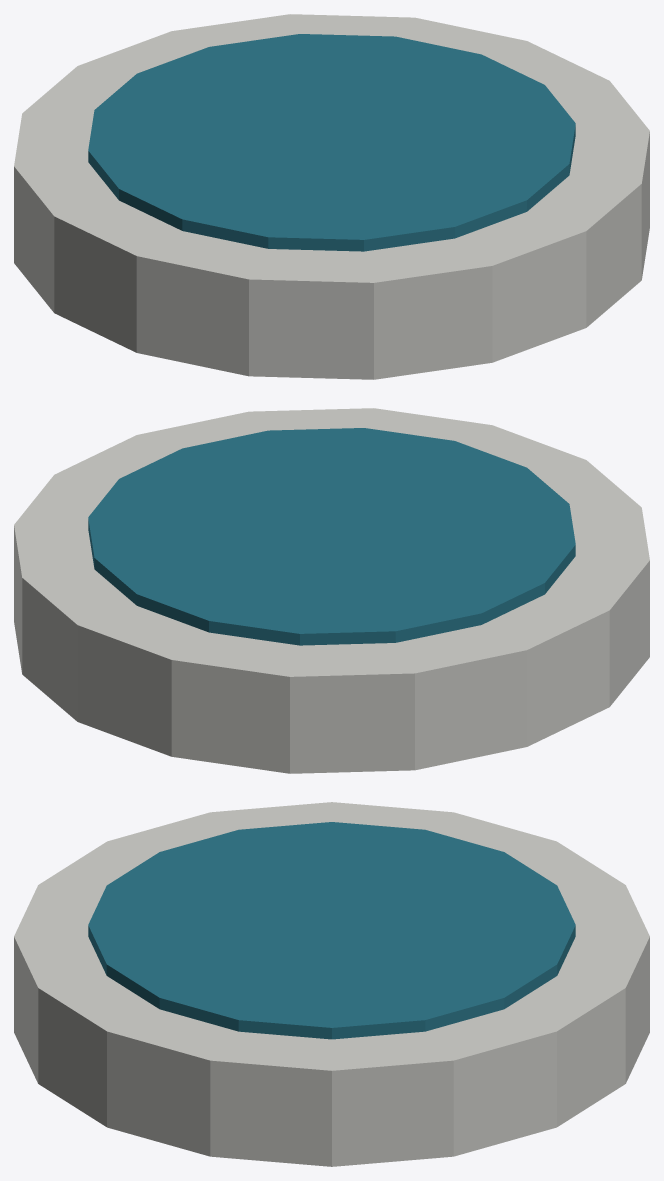
Rendered from Prop_Street_029.glb.
3 views of the same model, one above another, from view 1: azimuth 30°, elevation 25°; view 2: azimuth 150°, elevation 25°; view 3: azimuth 270°, elevation 25° (orthographic).
Parts seen in each view (by area): view 1: Prop_Street_029; view 2: Prop_Street_029; view 3: Prop_Street_029.
Part boxes in pixels (<box>): Prop_Street_029: <box>14,14,649,379</box>; Prop_Street_029: <box>14,408,649,773</box>; Prop_Street_029: <box>14,802,649,1166</box>.
Bounding box in the file's own units: 3 × 0.56 × 3.
